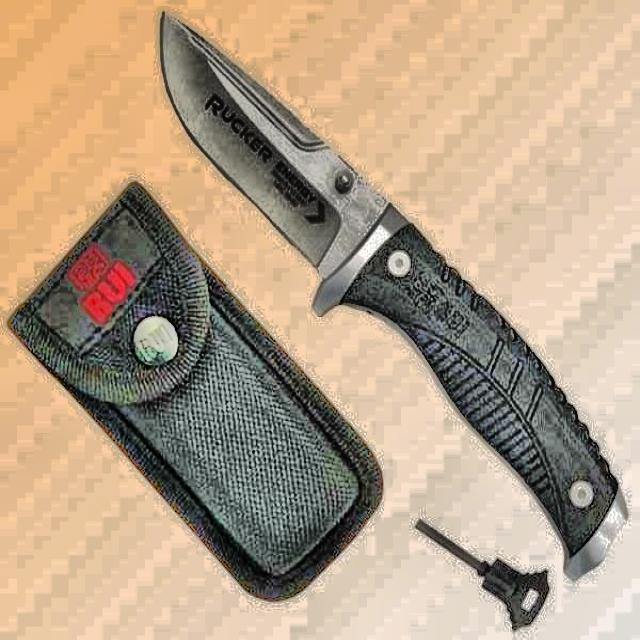knife: (162, 12, 631, 583)
